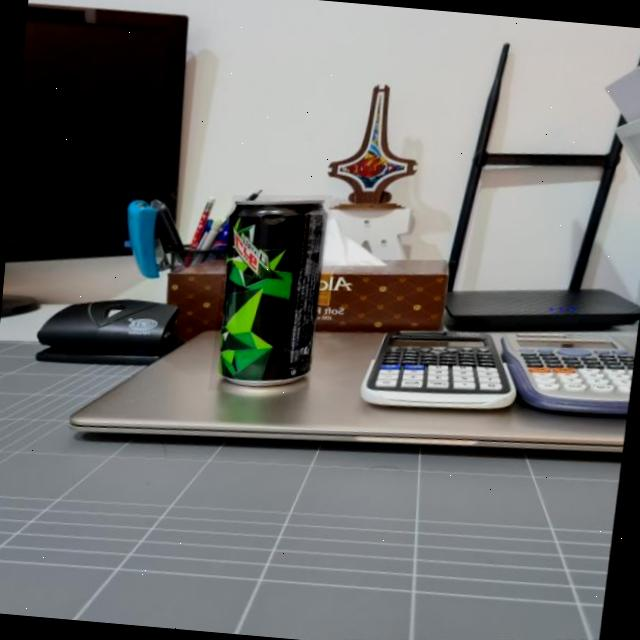trash: (209, 188, 330, 392)
